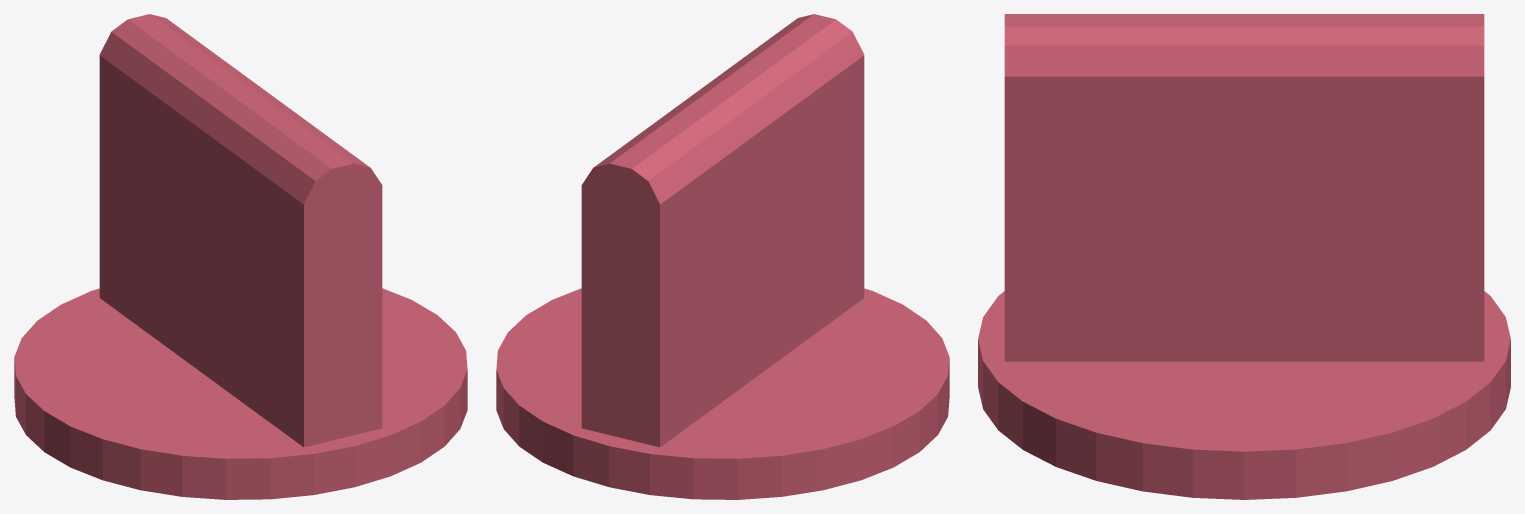
Rendered from barrier.dae.
The picture shows the model from 3 angles, left to right: view 1: azimuth 30°, elevation 25°; view 2: azimuth 150°, elevation 25°; view 3: azimuth 270°, elevation 25°; orthographic projection. The views are drawn at different scales.
Parts seen in each view (by area): view 1: Cube; view 2: Cube; view 3: Cube.
Part boxes in pixels (left/top/right/bottom): Cube: left=14, top=14, right=467, bottom=499; Cube: left=496, top=14, right=949, bottom=499; Cube: left=978, top=14, right=1510, bottom=499.
Bounding box in the file's own units: 1000 × 1000 × 760.
